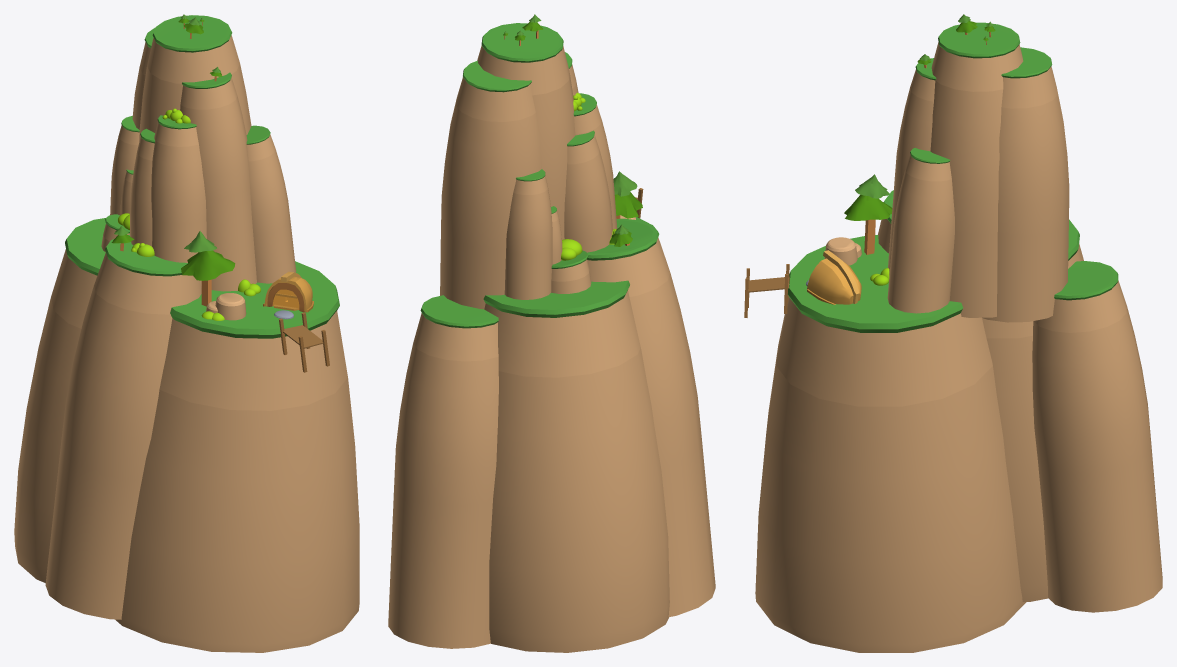
File: ISLAND1.fbx
The picture shows the model from 3 angles, left to right: view 1: azimuth 30°, elevation 25°; view 2: azimuth 150°, elevation 25°; view 3: azimuth 270°, elevation 25°; orthographic projection. The views are drawn at different scales.
Visible parts, largest first — view 1: HUT; view 2: HUT; view 3: HUT.
Boxes of the visible parts, x1=… form: HUT: x1=14, y1=14, x2=359, y2=652; HUT: x1=388, y1=14, x2=715, y2=652; HUT: x1=744, y1=14, x2=1162, y2=652.
Size of the model in its own units: 531 by 1082 by 702.
